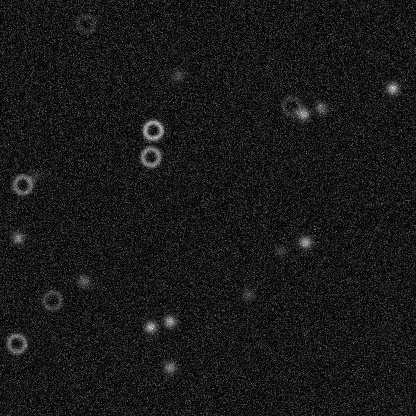Ring: (73, 11, 97, 35), (10, 172, 34, 196), (138, 144, 162, 168), (40, 288, 64, 312), (140, 118, 164, 142), (279, 93, 303, 117), (4, 331, 28, 355)
Spot: (161, 359, 177, 375), (9, 229, 25, 245), (272, 243, 288, 259), (161, 313, 177, 329), (75, 273, 91, 289), (313, 99, 329, 115), (297, 233, 313, 249), (169, 68, 185, 84), (240, 286, 256, 302), (142, 319, 158, 335), (384, 80, 400, 96), (295, 105, 311, 121), (26, 169, 42, 185)
